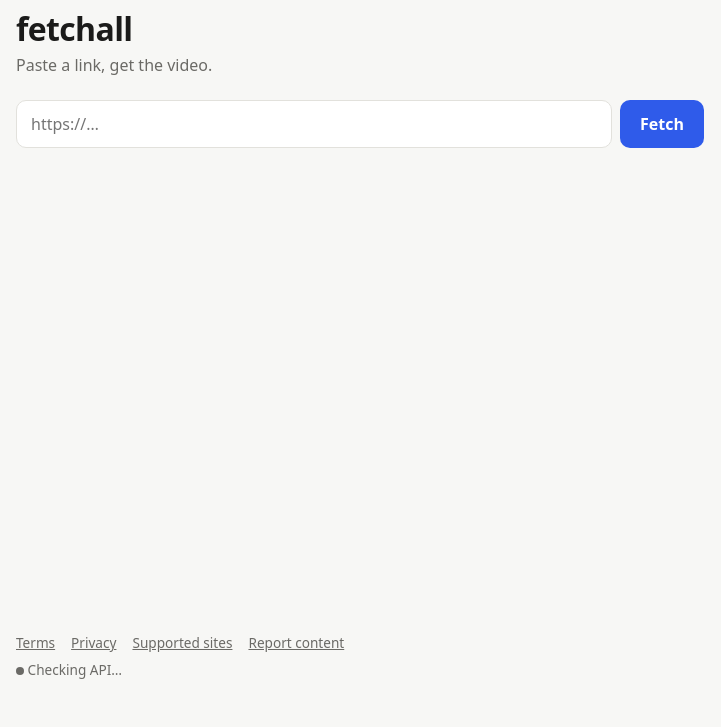
Test case: the footer link Privacy opens its page
Click the link "Privacy" at (94, 642), box [71, 633, 116, 652]
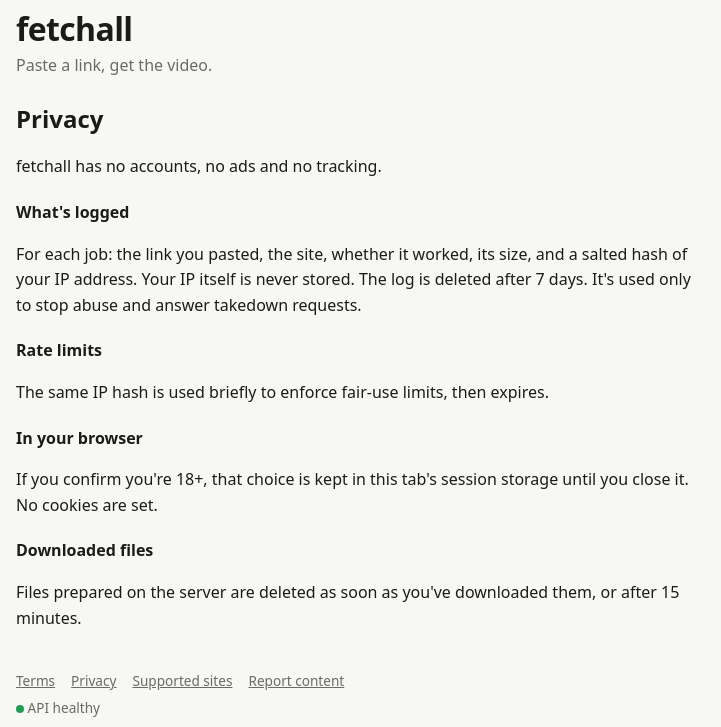
Now the heading "Privacy" is shown, box [16, 102, 103, 135]
